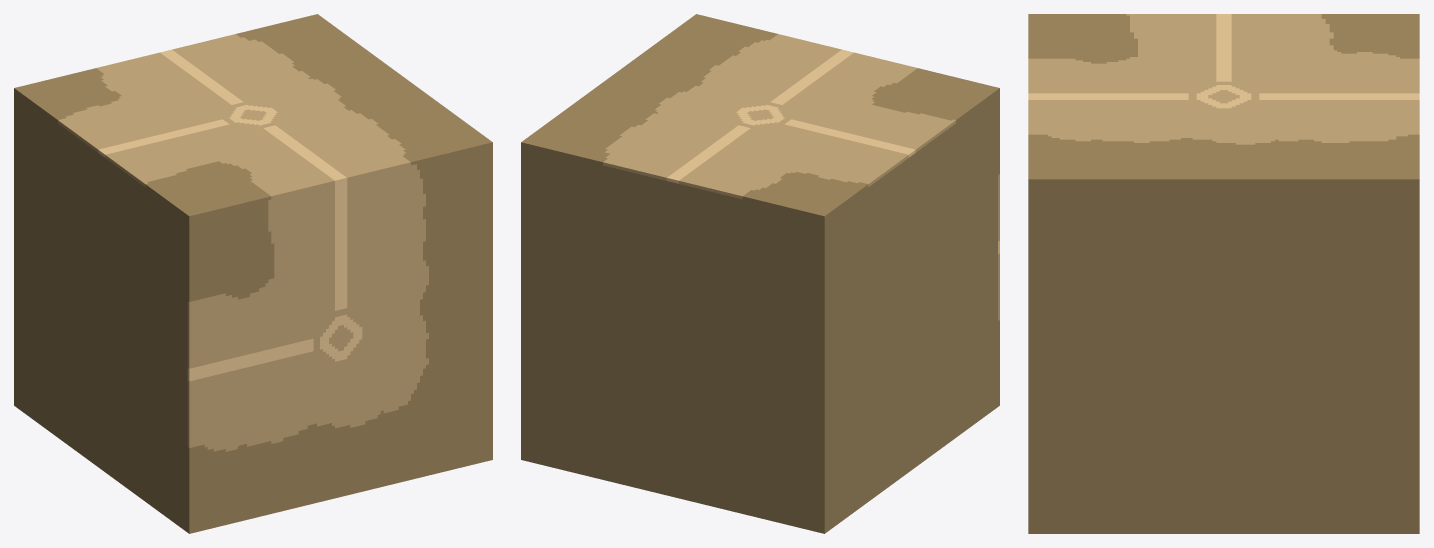
The model's file is floor32_wall2b.obj.
3 views of the same model, side by side, from view 1: azimuth 30°, elevation 25°; view 2: azimuth 150°, elevation 25°; view 3: azimuth 270°, elevation 25° (orthographic). The views are drawn at different scales.
Visible parts, largest first — view 1: floor32_wall2b; view 2: floor32_wall2b; view 3: floor32_wall2b.
Boxes of the visible parts, x1=… form: floor32_wall2b: x1=14, y1=14, x2=492, y2=533; floor32_wall2b: x1=521, y1=14, x2=999, y2=533; floor32_wall2b: x1=1028, y1=14, x2=1419, y2=533.
Size of the model in its own units: 100 by 100 by 100.
Materials: 1 (1 with a texture image).
